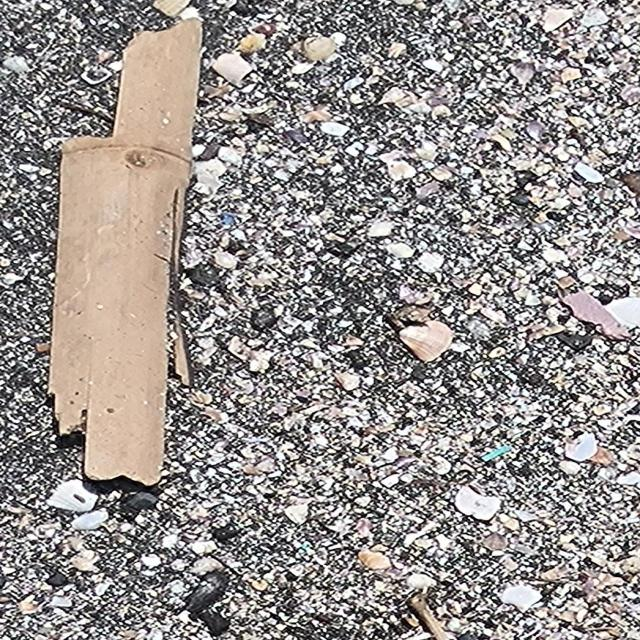wood_waste: (49, 19, 208, 488)
